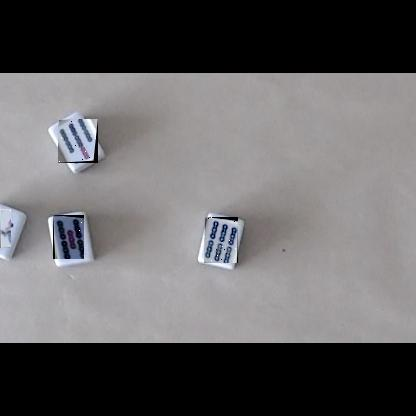1s: (0, 209, 11, 248)
5s: (53, 215, 84, 259)
6s: (204, 217, 238, 263)
7s: (58, 119, 98, 163)
